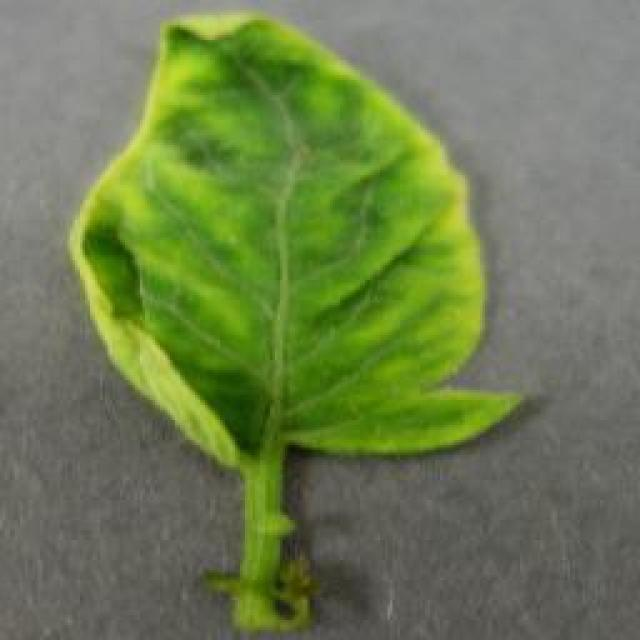Tomato yellow virus leaf: (72, 8, 520, 477)
